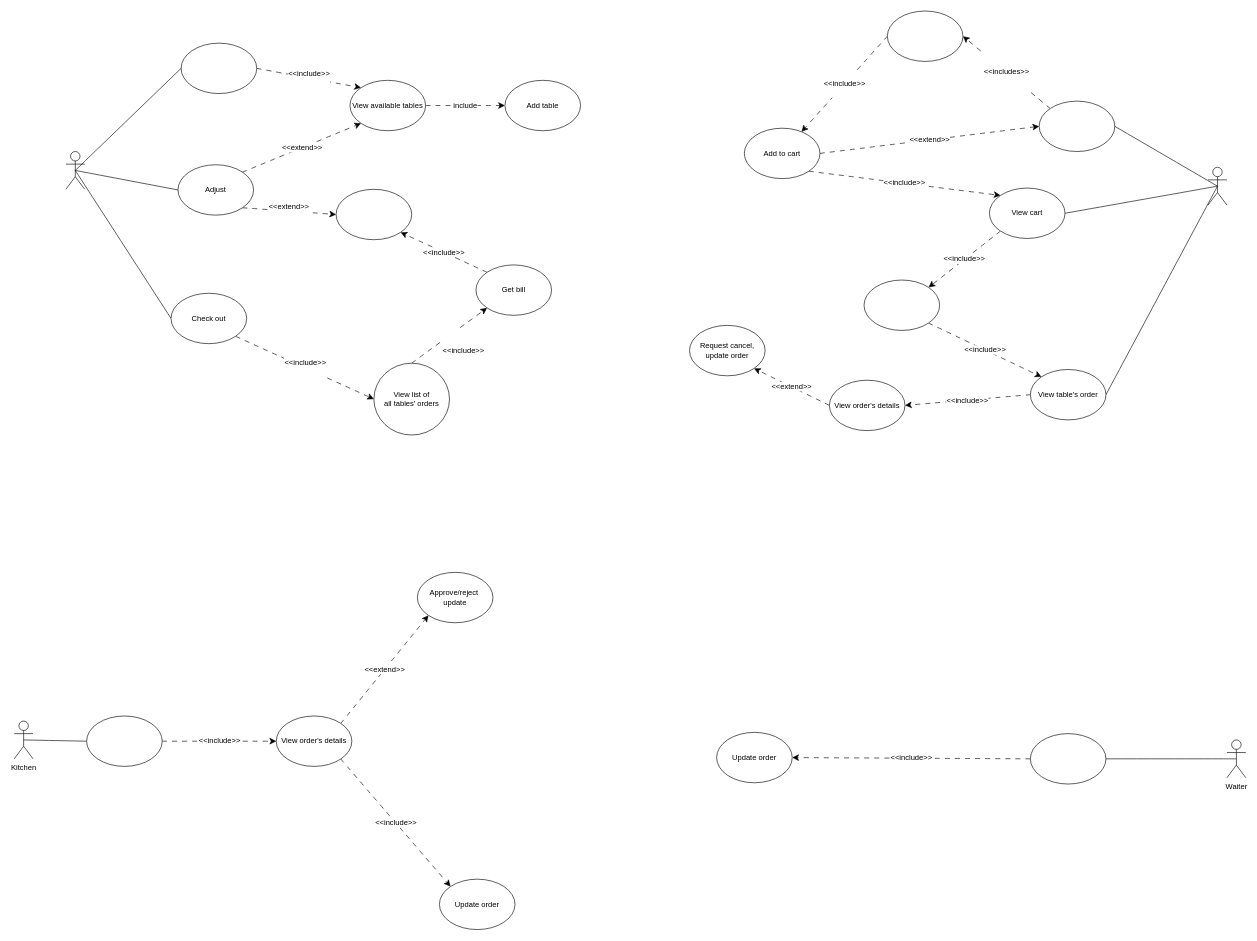
The diagram is 1257 pixels wide and 941 high, and some of its shapes have lost their labels. The shapes that lost their labels are listed below. From the top down, each one's centre as x and y in pixels, then its label:
point 925,35: View dishes' details
point 218,68: Check in
point 1077,126: View list of dishes
point 75,170: Receptionist
point 1217,186: Customer (table)
point 373,214: Check-out table
point 901,304: Order
point 124,740: View orders list
point 1068,758: View order list
